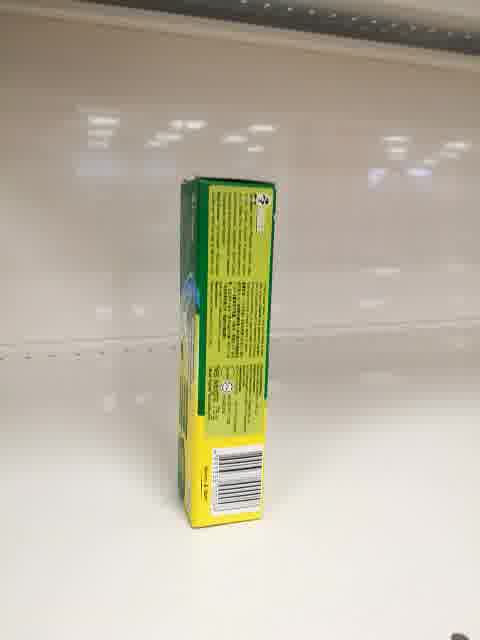toothpaste: (177, 177, 276, 530)
